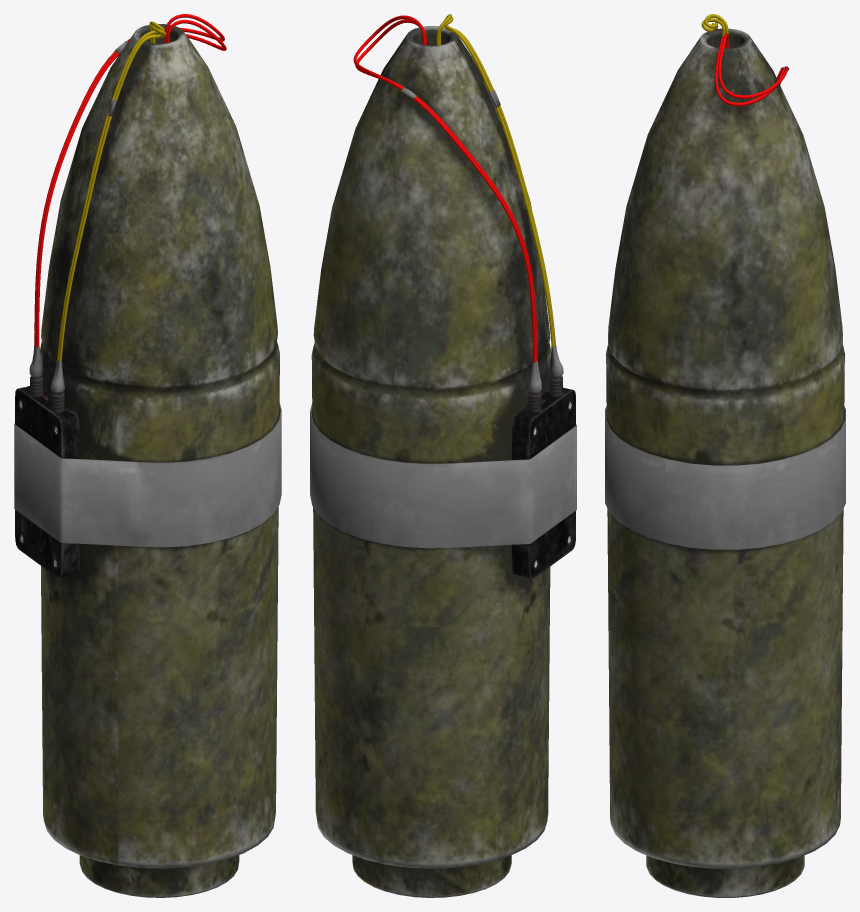
File: ied_lod.glb
The picture shows the model from 3 angles, left to right: view 1: azimuth 30°, elevation 25°; view 2: azimuth 150°, elevation 25°; view 3: azimuth 270°, elevation 25°; orthographic projection.
Parts seen in each view (by area): view 1: ied_body; view 2: ied_body; view 3: ied_body.
Part boxes in pixels (x1,y1,x2,y2): ied_body: (14, 14, 281, 897); ied_body: (310, 14, 576, 897); ied_body: (605, 14, 845, 897).
Bounding box in the file's own units: 0.1686 × 0.6 × 0.1549.
1 material, 1 textured.
